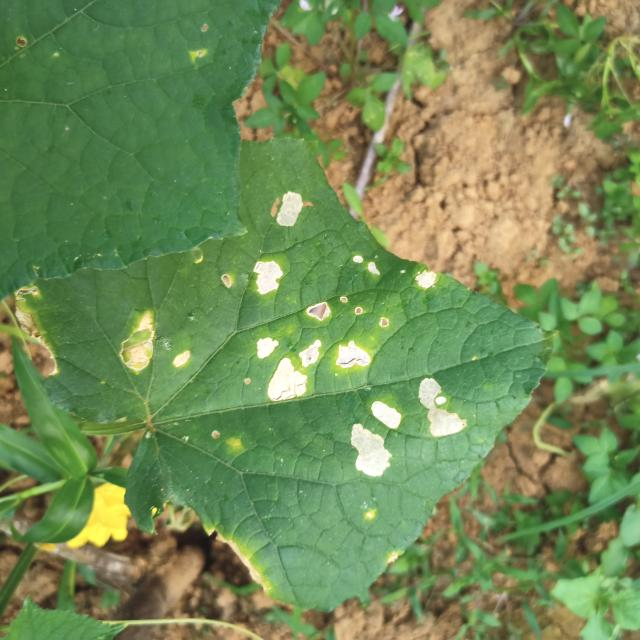disease_cucumber: (255, 300, 372, 404), (119, 308, 192, 374), (350, 400, 404, 480), (415, 374, 468, 443), (350, 251, 385, 286), (253, 258, 285, 296), (276, 189, 303, 228), (411, 265, 437, 291)
